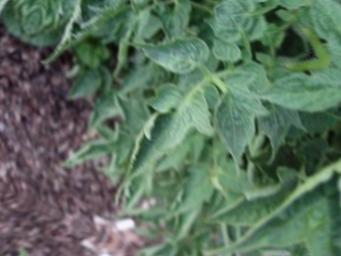Tomato leaf mosaic virus: (107, 69, 223, 216), (184, 74, 282, 181), (254, 42, 341, 141), (122, 9, 215, 88), (206, 35, 245, 67)
